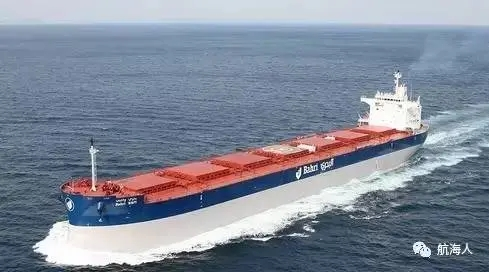Cargoship: (58, 66, 429, 252)
